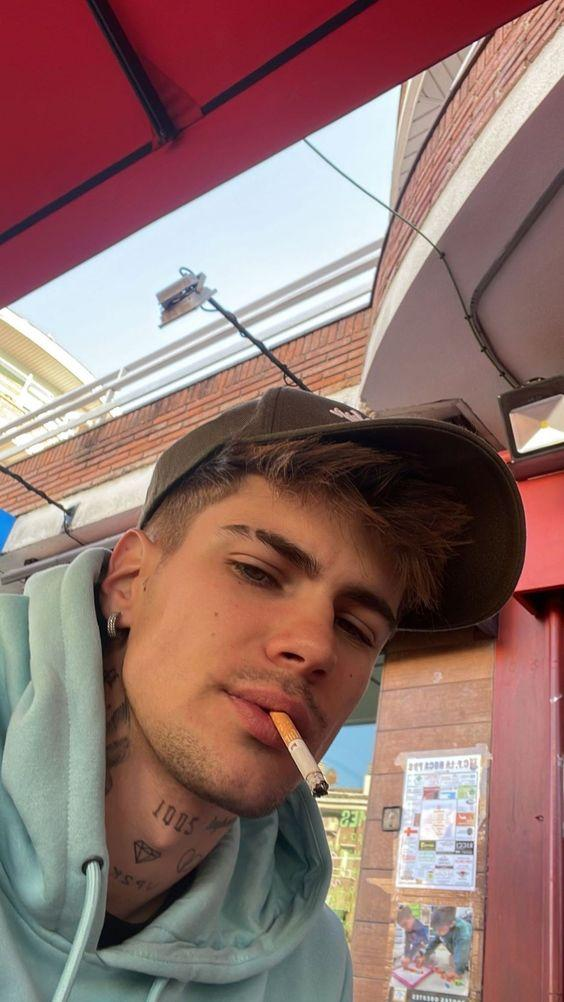cigarette: (269, 711, 329, 799)
